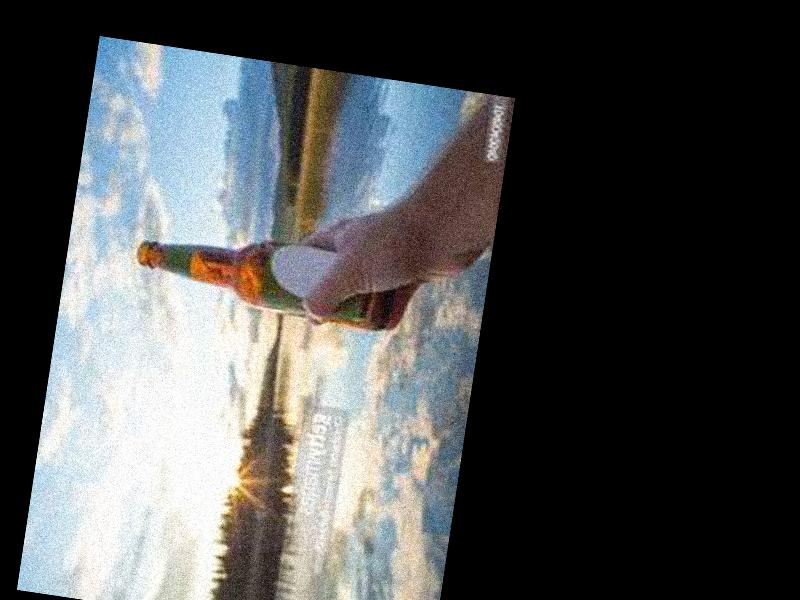Beer: (130, 219, 396, 334)
